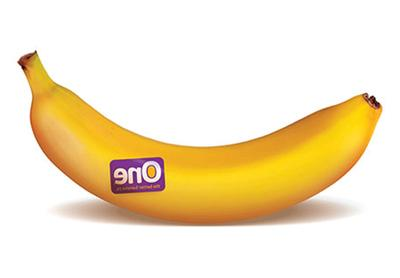banana: (0, 0, 400, 278)
